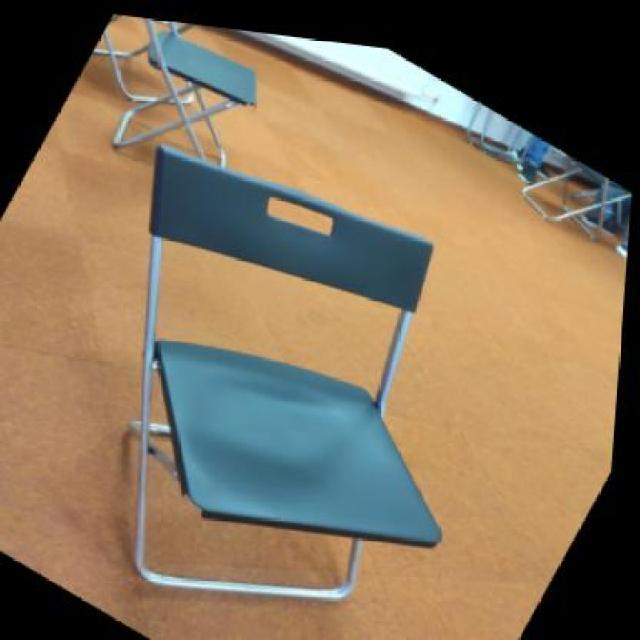chair: (0, 61, 580, 638), (52, 6, 323, 217)
